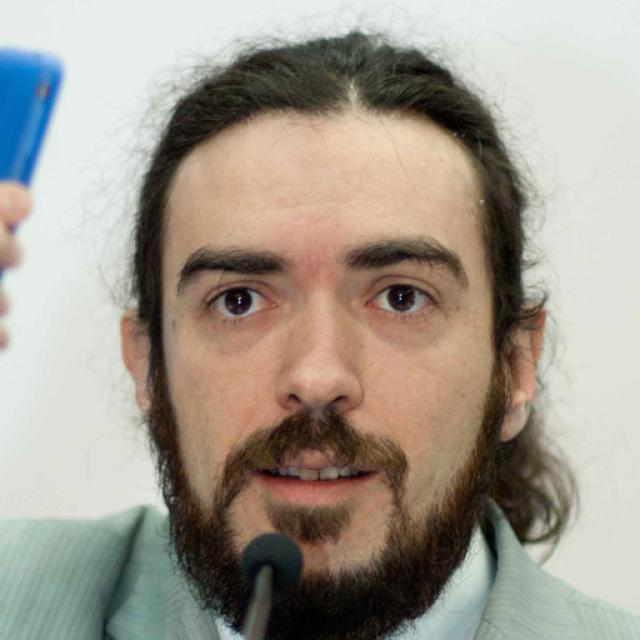0_rostro_limpio: (125, 43, 543, 630)
